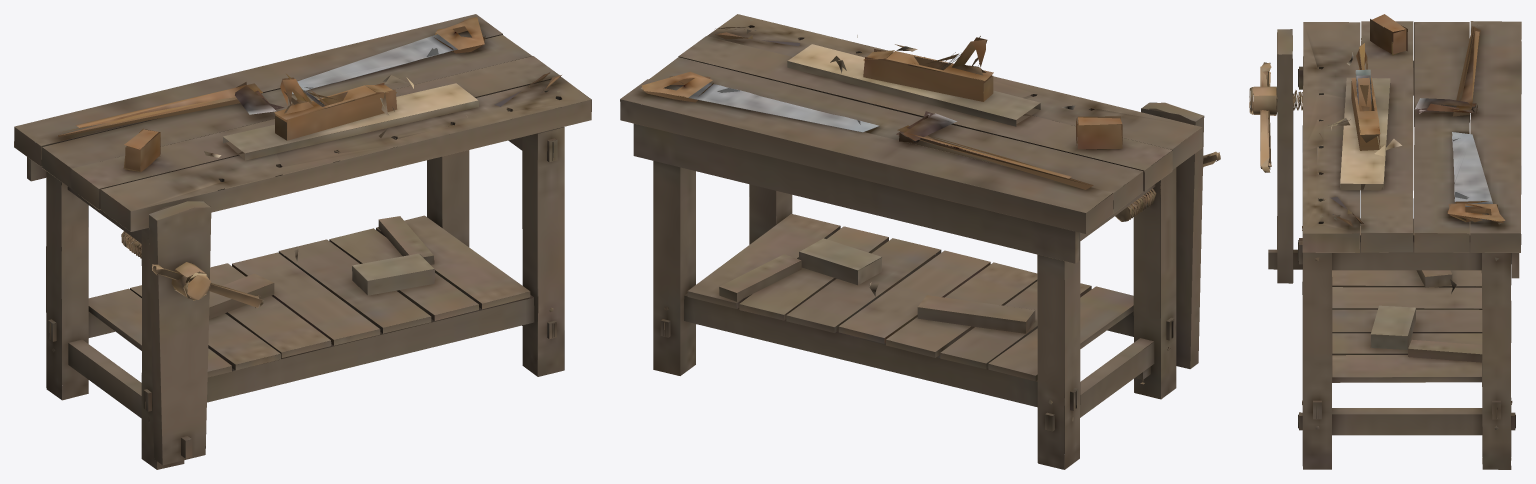
The model's file is b_bench_far.glb.
The picture shows the model from 3 angles, left to right: view 1: azimuth 30°, elevation 25°; view 2: azimuth 150°, elevation 25°; view 3: azimuth 270°, elevation 25°; orthographic projection. The views are drawn at different scales.
Visible parts, largest first — view 1: WB_Bench; view 2: WB_Bench; view 3: WB_Bench.
Part boxes in pixels (x1,y1,x2,y2): WB_Bench: (14,14,591,469); WB_Bench: (620,14,1220,469); WB_Bench: (1249,14,1521,469).
Size of the model in its own units: 1.6 by 1.11 by 0.8706.
1 material, 1 textured.
